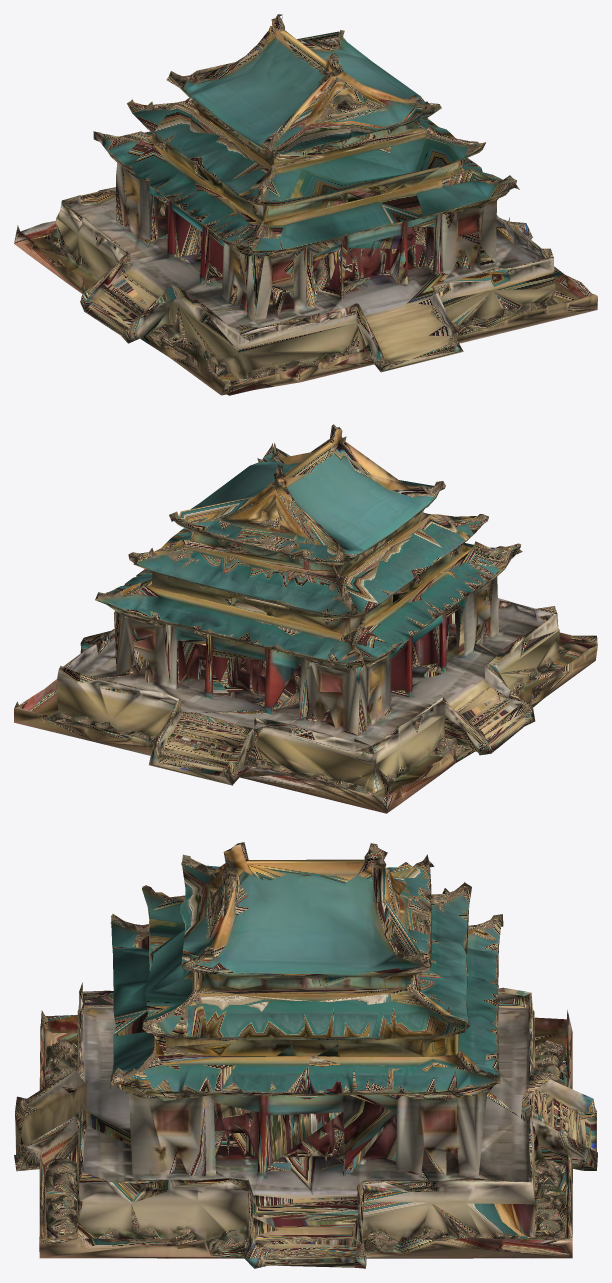
Rendered from bq_thunder_hall.mid.glb.
3 views of the same model, one above another, from view 1: azimuth 30°, elevation 25°; view 2: azimuth 150°, elevation 25°; view 3: azimuth 270°, elevation 25° (orthographic). The views are drawn at different scales.
Bounding box in the file's own units: 1.89 × 1.09 × 1.89.
Materials: 1 (1 with a texture image).
